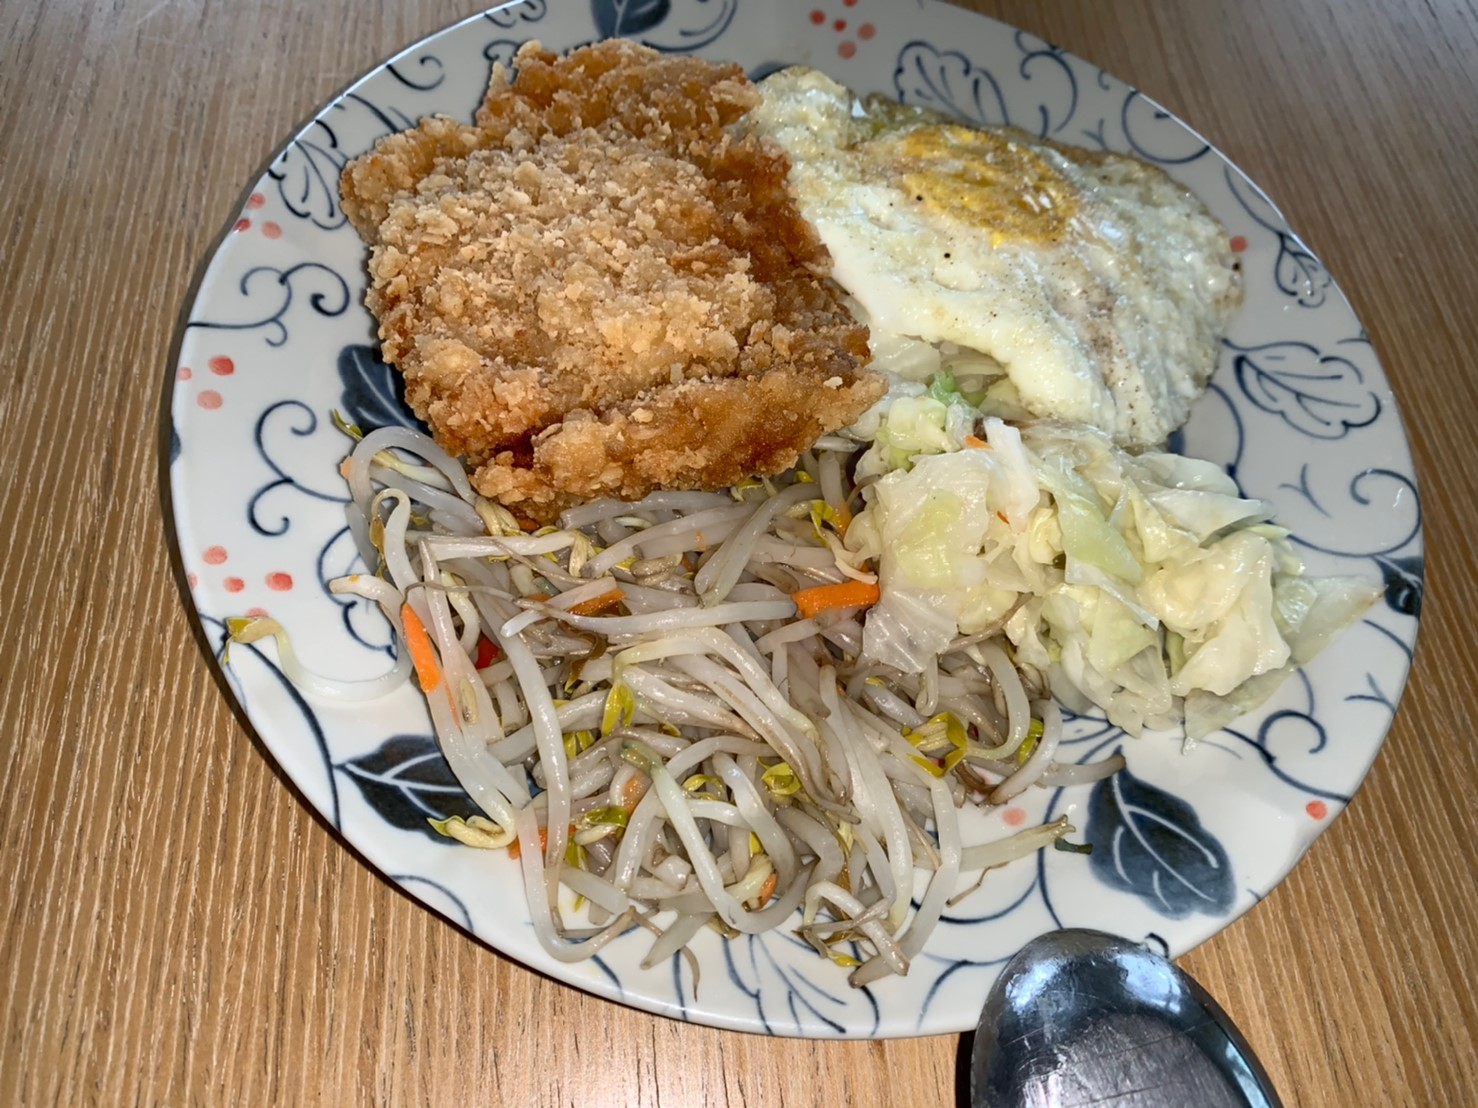chinese_cabbage: (861, 405, 1309, 740)
fried_chicken: (342, 45, 869, 509)
fried_eggs: (773, 74, 1227, 445)
mung_bean_sprouts: (413, 474, 971, 956)
